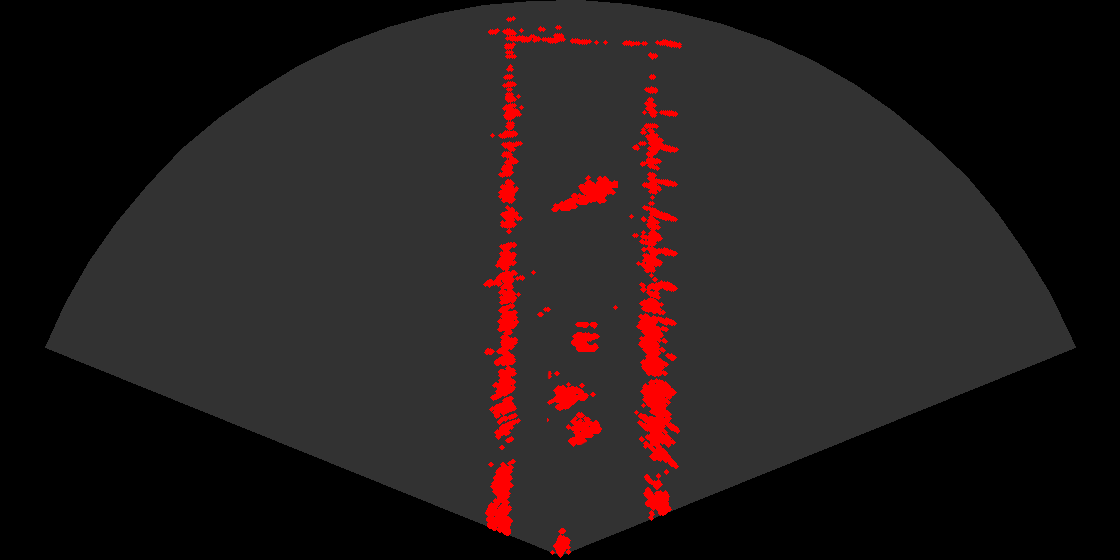ball: (551, 314, 611, 355)
cage: (547, 371, 610, 455)
frogman: (550, 169, 618, 216)
